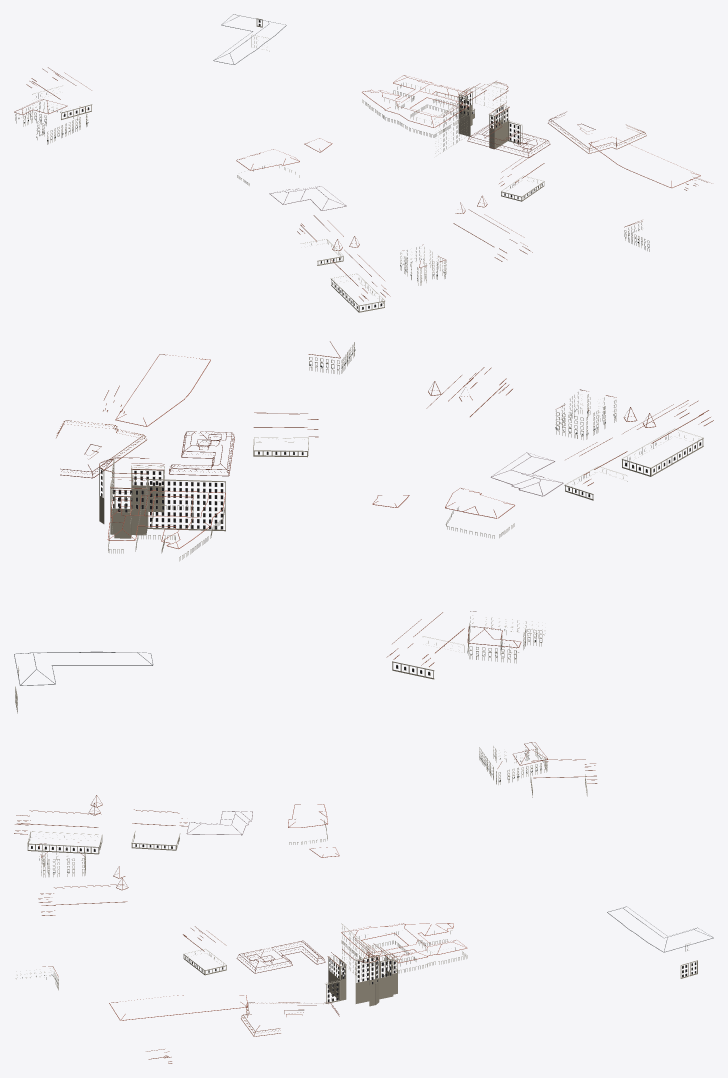
3 renders of one model, top to bottom at view 1: azimuth 30°, elevation 25°; view 2: azimuth 150°, elevation 25°; view 3: azimuth 270°, elevation 25°, orthographic. The views are drawn at different scales.
Parts seen in each view (by area): view 1: detail; view 2: detail; view 3: detail.
Boxes of the visible parts, box(x1,y1,x2,y2) form: detail: box(14, 14, 711, 312); detail: box(14, 341, 713, 713); detail: box(14, 742, 713, 1063).
Size of the model in its own units: 457 by 71.33 by 527.
